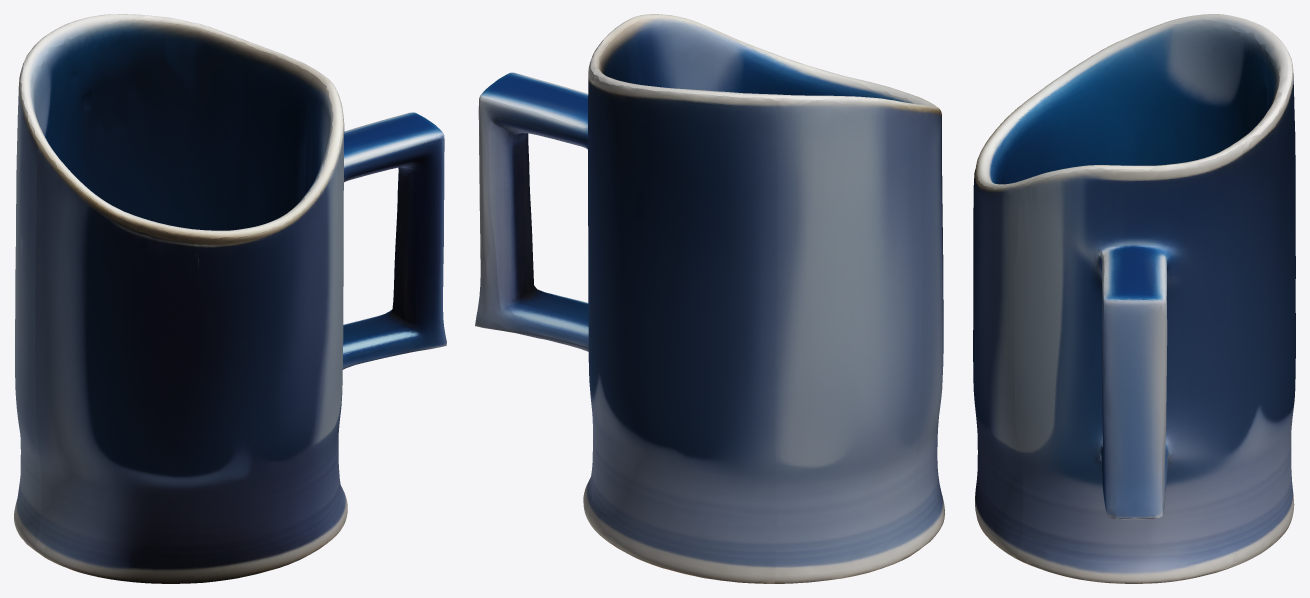
The model's file is mug.glb.
3 renders of one model, left to right at view 1: azimuth 30°, elevation 25°; view 2: azimuth 150°, elevation 25°; view 3: azimuth 270°, elevation 25°, orthographic. The views are drawn at different scales.
Visible parts, largest first — view 1: world_1; view 2: world_1; view 3: world_1.
Boxes of the visible parts, x1=… form: world_1: x1=14, y1=14, x2=446, y2=583; world_1: x1=475, y1=14, x2=944, y2=583; world_1: x1=973, y1=14, x2=1295, y2=583.
Bounding box in the file's own units: 0.9295 × 1 × 0.6422.
1 material, 1 textured.
